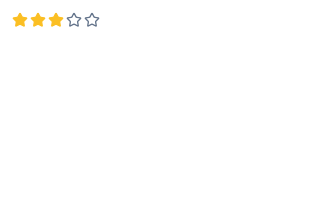
StarRating › comment popover › does not wipe notes when Save is empty after Edit on existing comment
This screenshot has width=332, height=208.
Click the button named "4 star" at {"x": 74, "y": 20}, box [66,12,82,28]
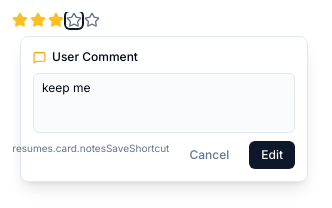
Click the button with test id "rating-comment-edit" at {"x": 272, "y": 155}, box [249,141,295,169]
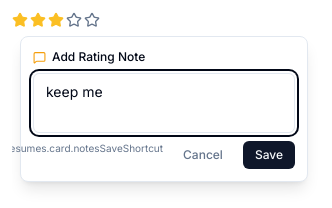
Clear the text box with test id "rating-comment-input" at {"x": 164, "y": 103}, box [33,73,295,133]
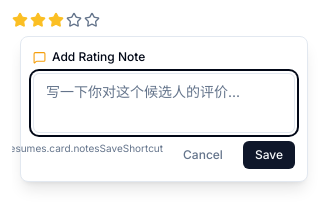
Click the button with test id "rating-comment-save" at {"x": 269, "y": 155}, box [243,141,295,169]
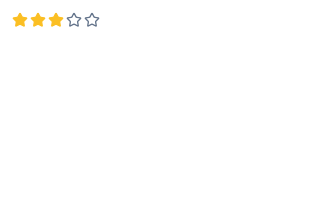
Now the element with test id "rating-comment-popover" is gone
